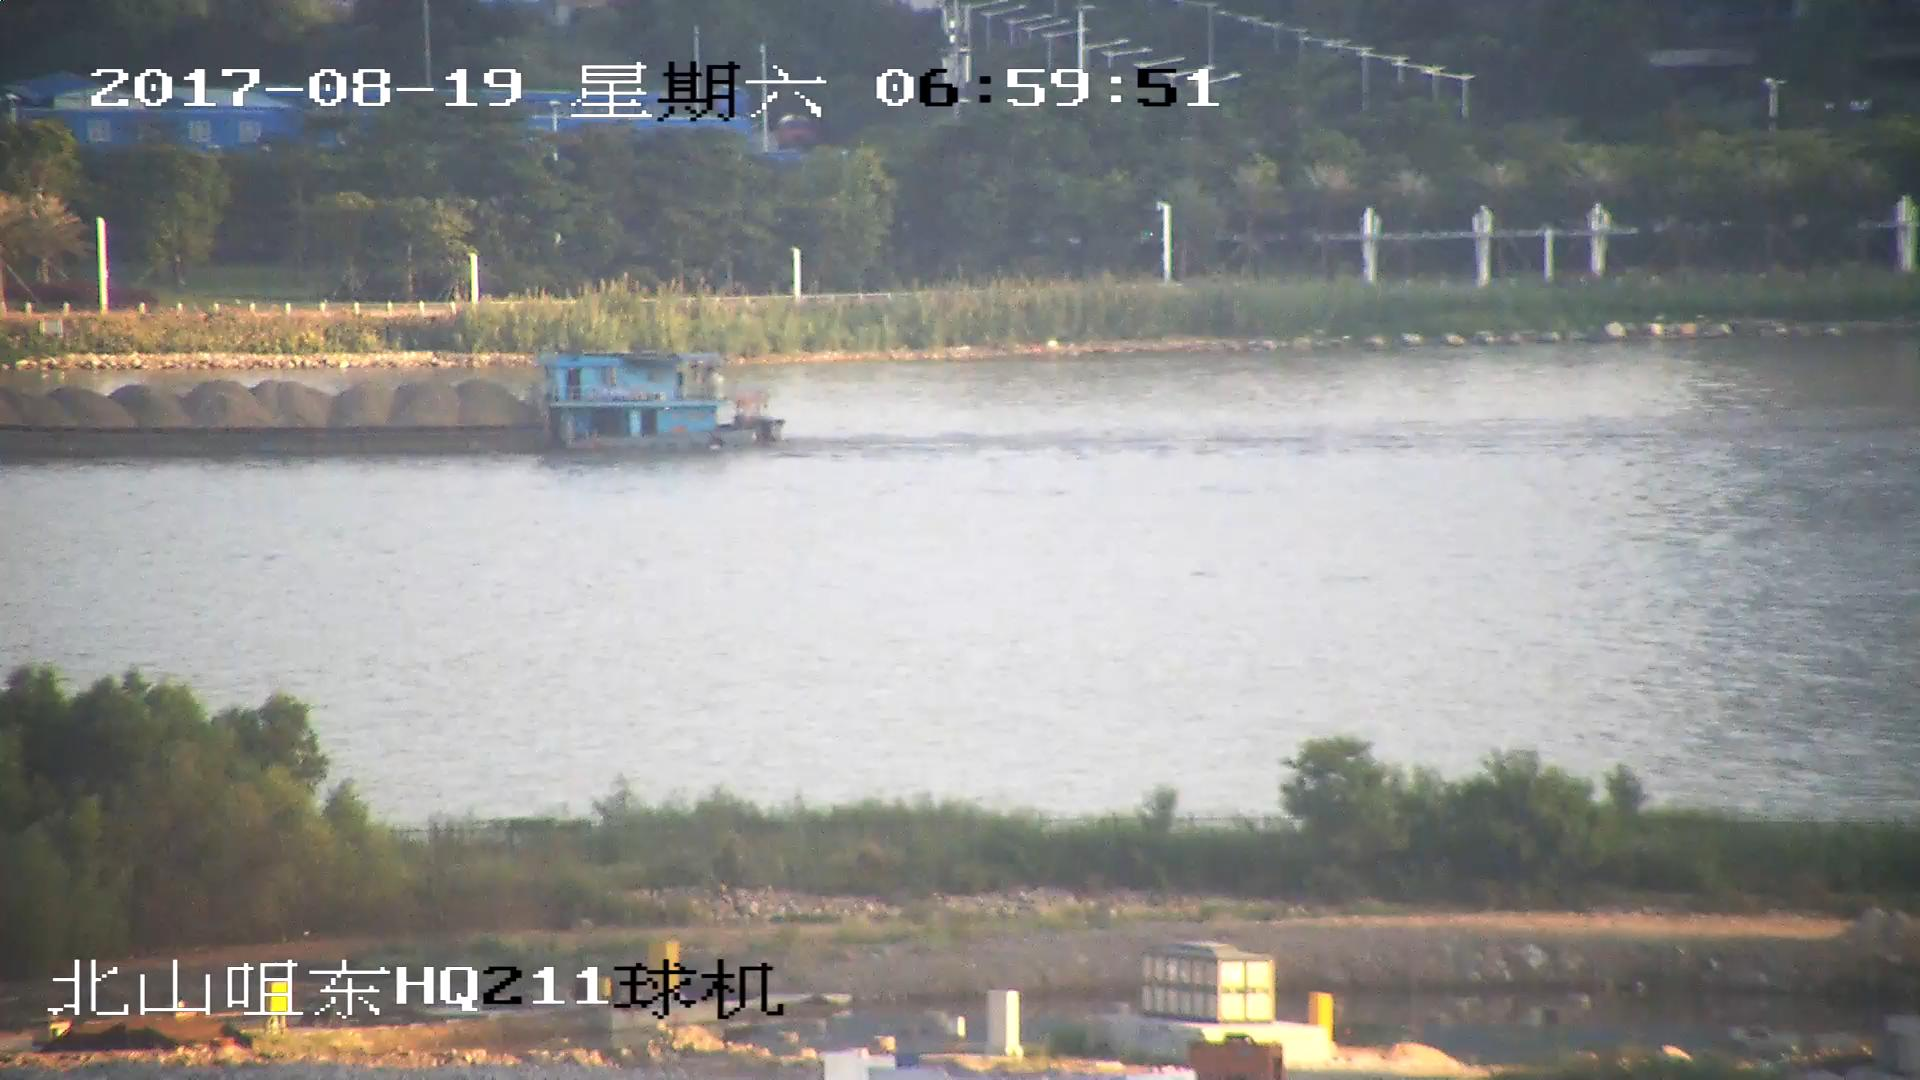ore carrier: (1, 346, 786, 457)
